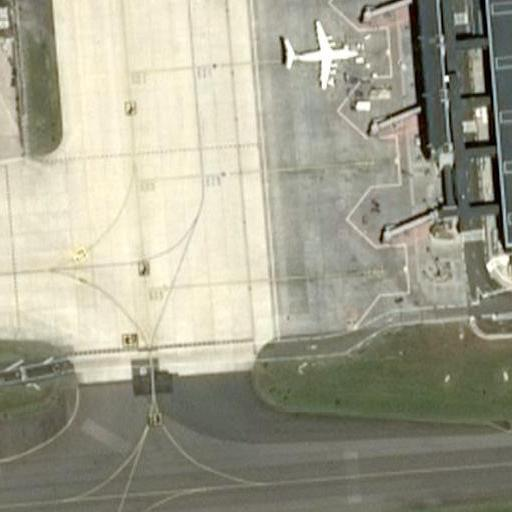Aircraft: (275, 14, 365, 89)
